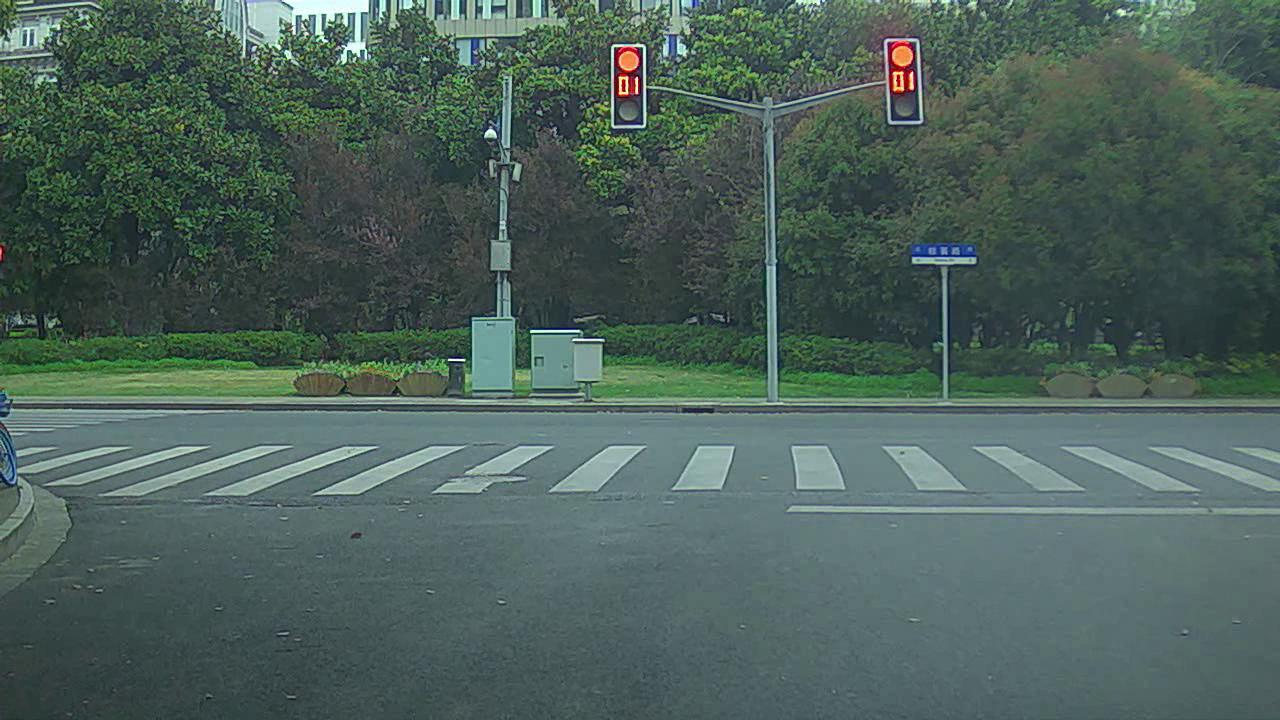traffic_light: (884, 37, 921, 128), (611, 41, 644, 124)
